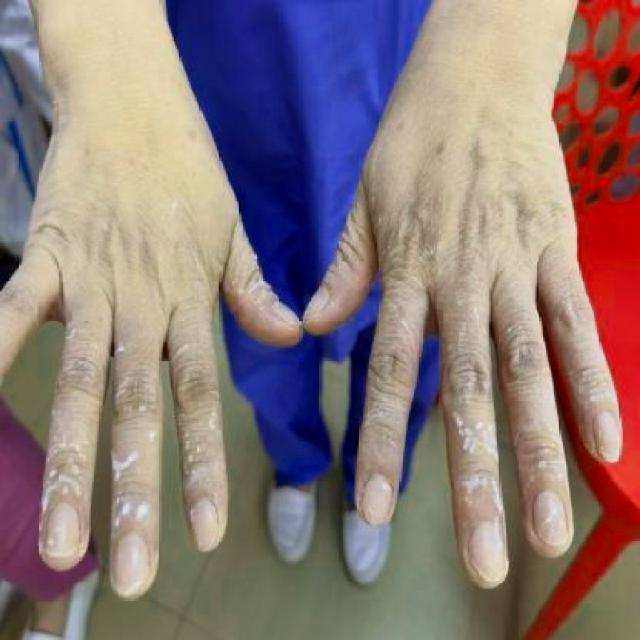hand_noglove: (1, 105, 304, 606), (304, 120, 624, 586)
